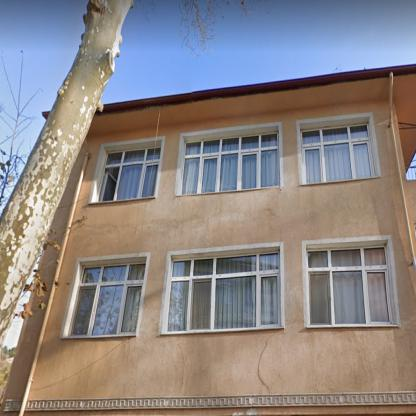window: (167, 250, 278, 332), (307, 243, 392, 325), (180, 130, 278, 194), (68, 261, 145, 336), (302, 122, 373, 184), (95, 146, 160, 202)
